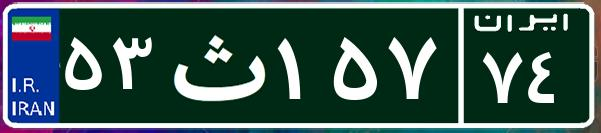1: (273, 28, 330, 110)
3: (110, 28, 158, 105)
4: (525, 38, 570, 115)
5: (330, 28, 385, 110), (57, 26, 110, 107)
7: (385, 28, 445, 110), (475, 38, 525, 113)
ث: (158, 15, 273, 115)
